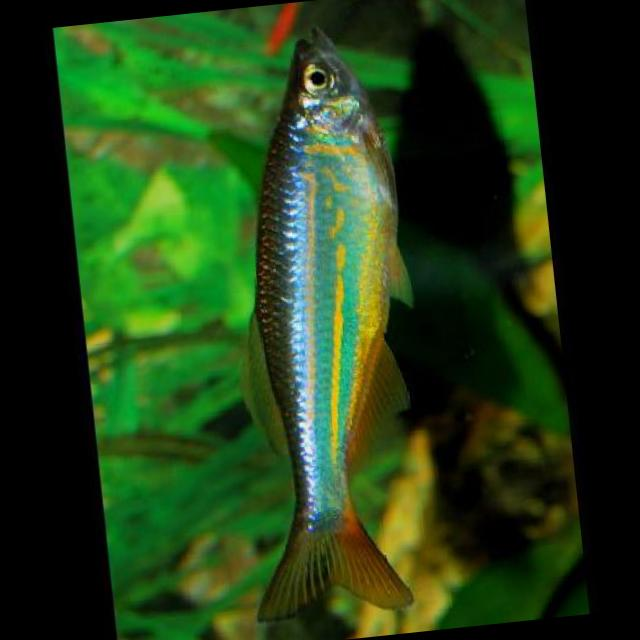ZebraFish: (194, 23, 441, 630)
